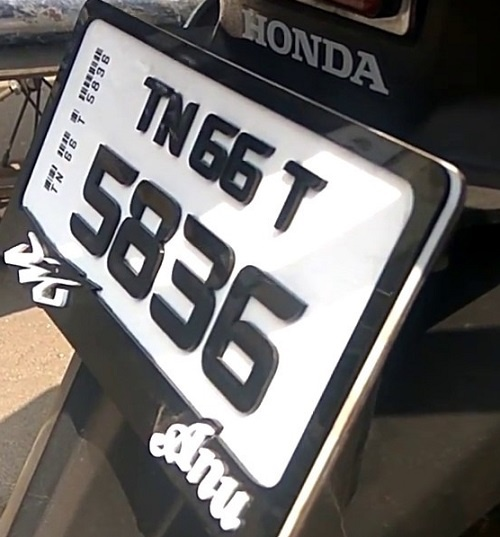plate: (83, 34, 369, 483)
